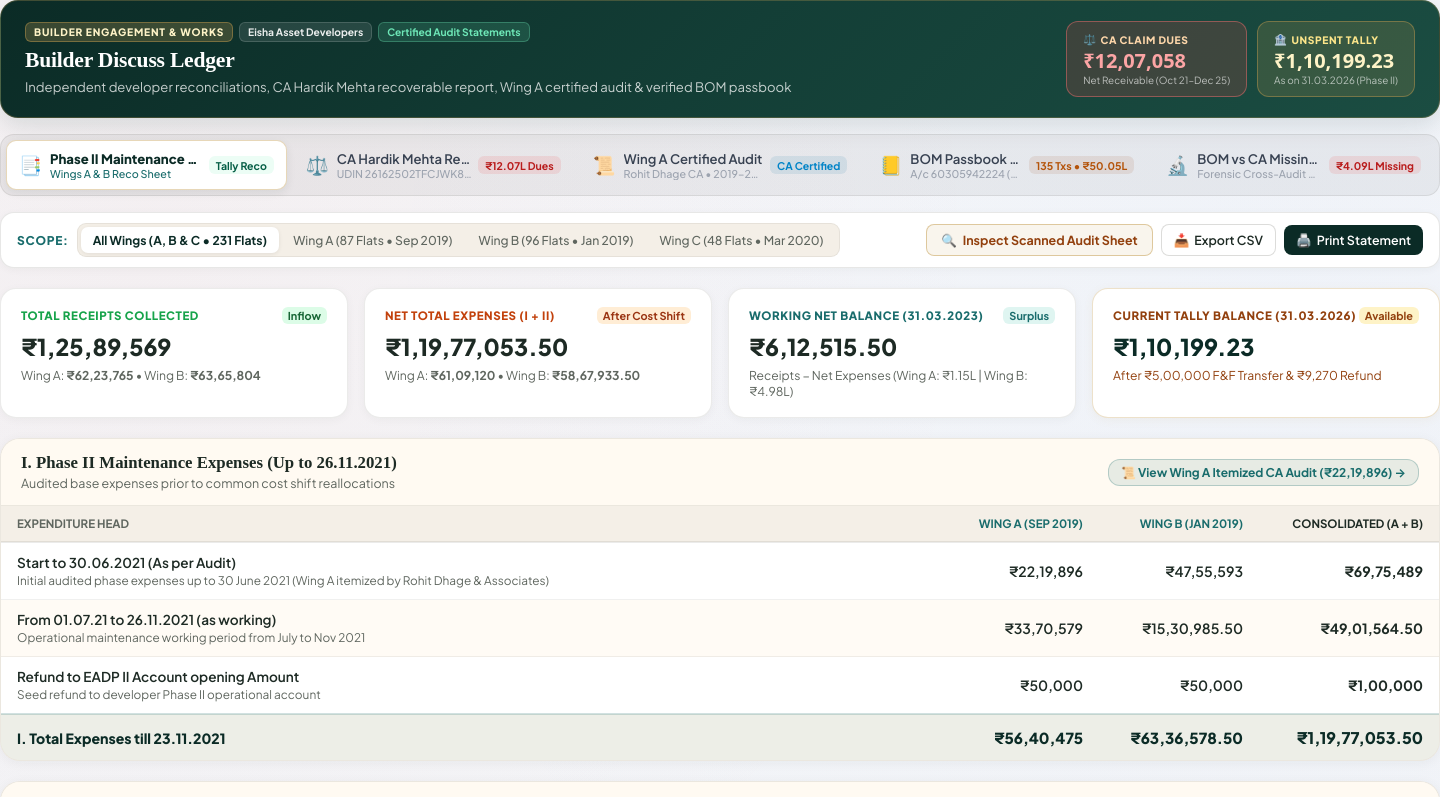
Test: BuilderDiscuss Component - Design & Features › switches to BOM vs CA Missing Bills analytics tab and renders forensic analysis
The image size is (1440, 797).
Click the button "BOM vs CA Missing Bills" at (1294, 165), box [1153,140,1434,190]
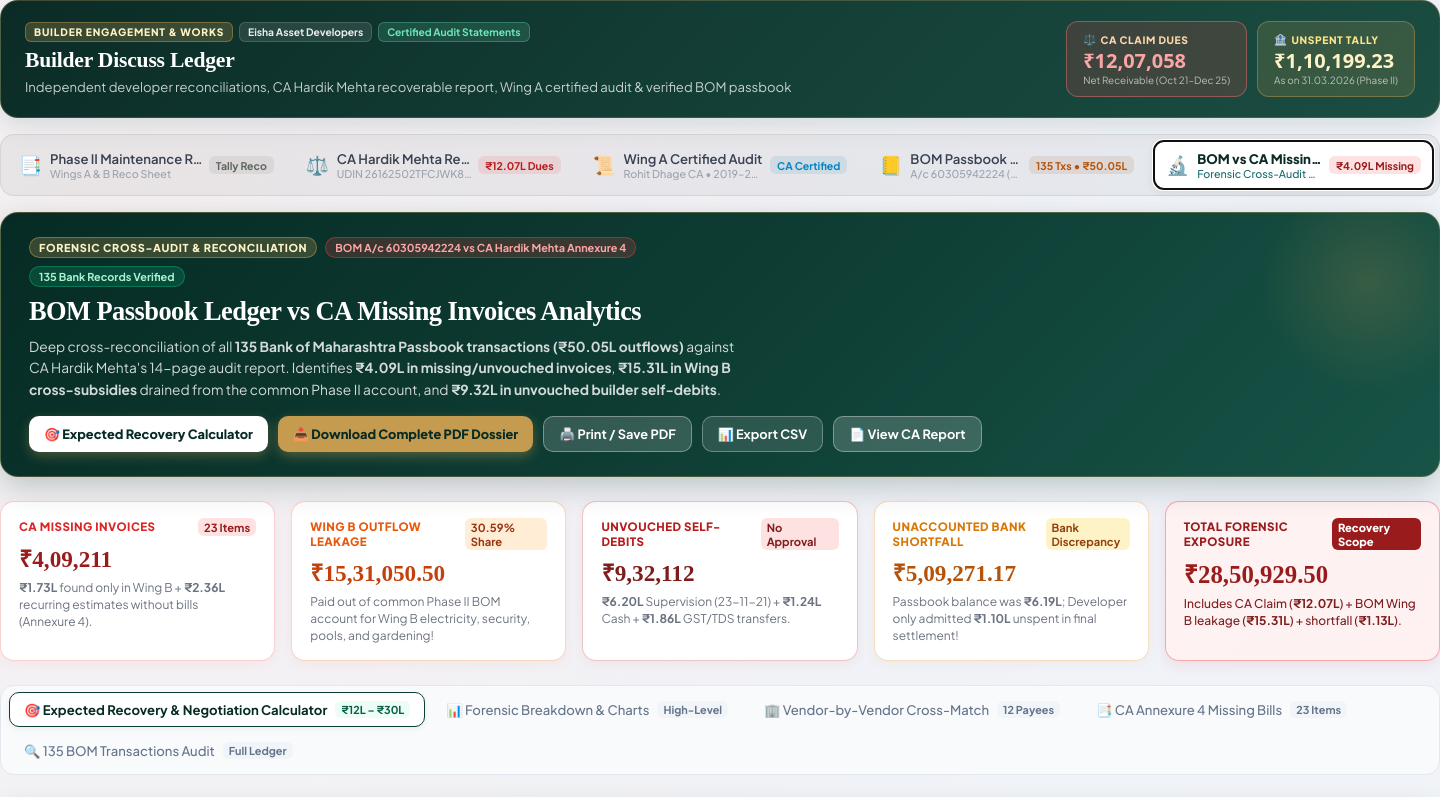
Now the heading "BOM Passbook Ledger vs CA Missing Invoices Analytics" is shown, box [29,296,641,326]
Now the text "FORENSIC CROSS-AUDIT & RECONCILIATION" is shown, box [29,237,317,258]
Now the text "₹4,09,211" is shown, box [19,546,112,572]
